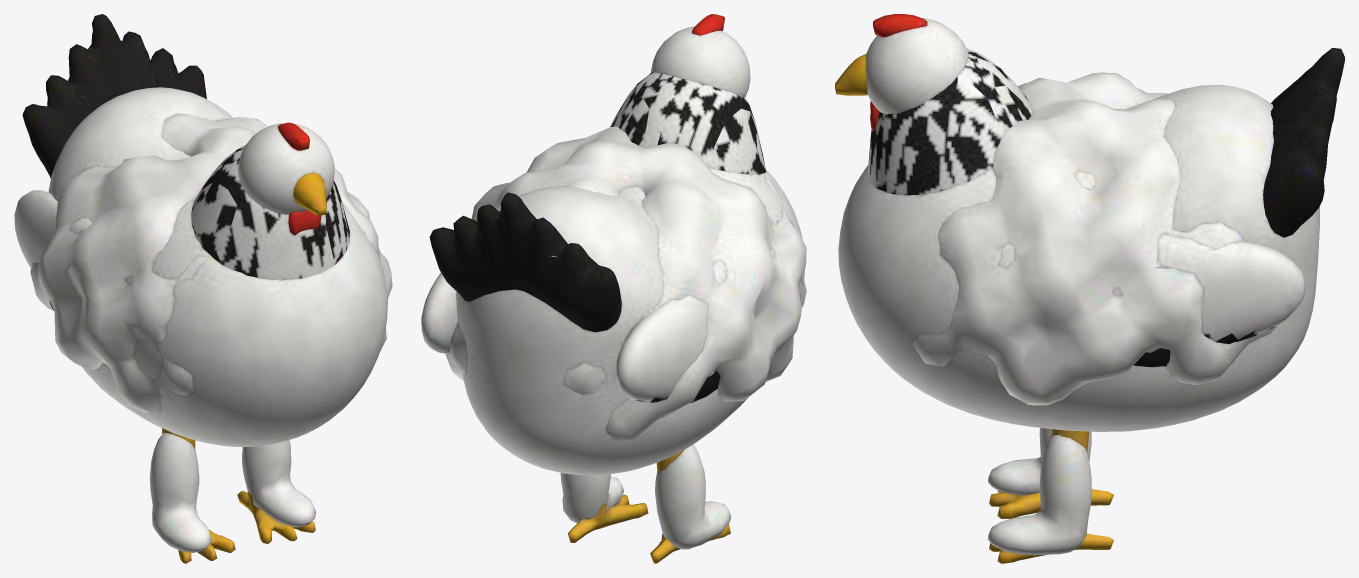
The model's file is animal_brahma_chicken.glb.
3 views of the same model, side by side, from view 1: azimuth 30°, elevation 25°; view 2: azimuth 150°, elevation 25°; view 3: azimuth 270°, elevation 25° (orthographic). The views are drawn at different scales.
Parts seen in each view (by area): view 1: animal_brahma_chicken, head, leg0, leg1; view 2: animal_brahma_chicken, leg0, head, leg1; view 3: animal_brahma_chicken, head, leg1, leg0.
Boxes of the visible parts, bbox=[...] form: animal_brahma_chicken: bbox=[14, 14, 392, 446]; head: bbox=[238, 122, 334, 235]; leg0: bbox=[149, 428, 235, 563]; leg1: bbox=[237, 440, 315, 543]; animal_brahma_chicken: bbox=[421, 72, 806, 475]; leg0: bbox=[650, 444, 731, 563]; head: bbox=[651, 14, 750, 97]; leg1: bbox=[560, 473, 648, 542]; animal_brahma_chicken: bbox=[838, 48, 1344, 431]; head: bbox=[835, 14, 968, 131]; leg1: bbox=[988, 429, 1113, 563]; leg0: bbox=[988, 428, 1113, 518].
Bounding box in the file's own units: 0.1967 × 0.2911 × 0.262.
Materials: 1 (1 with a texture image).
